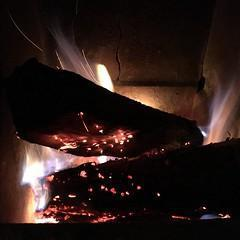fire: (21, 58, 237, 225)
